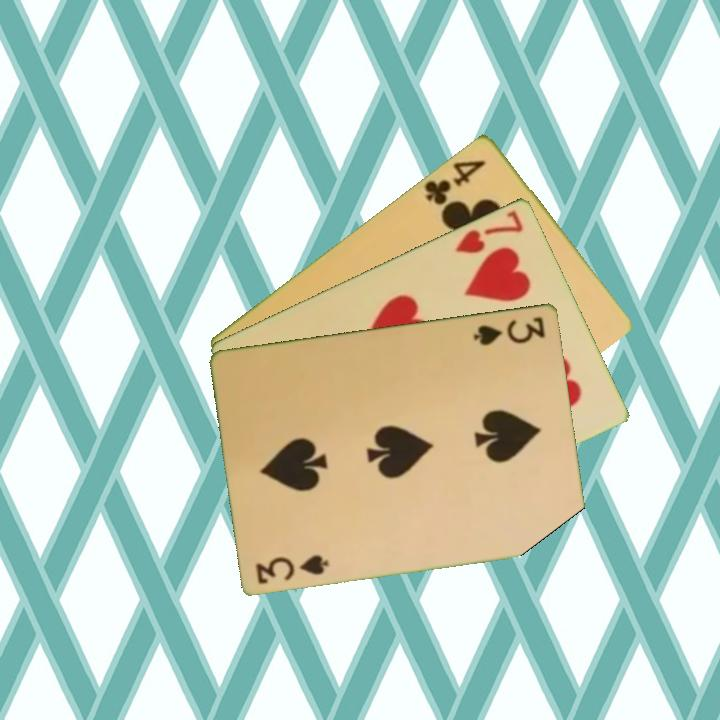3s: (252, 550, 332, 586), (470, 312, 548, 348)
4c: (421, 155, 489, 208)
7h: (452, 206, 527, 256)
